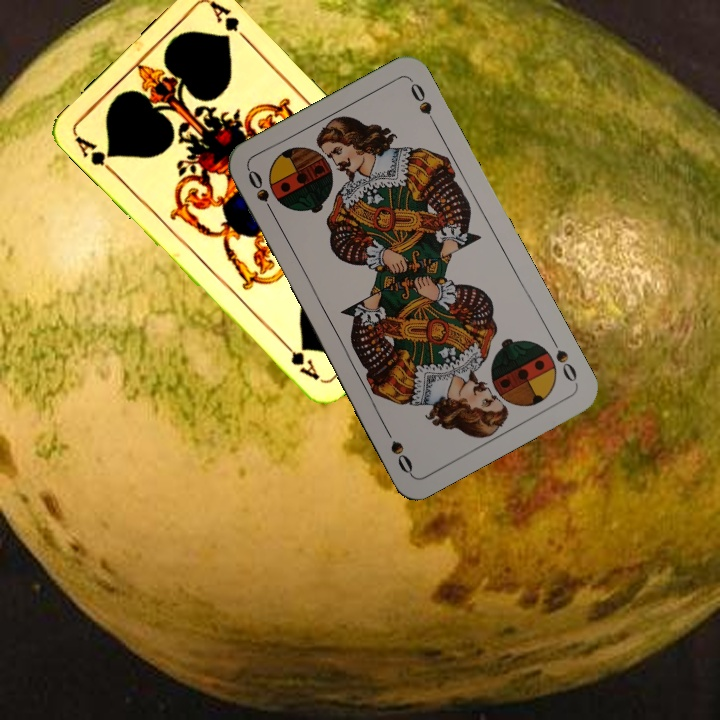GA: (71, 132, 119, 177)
SO: (244, 166, 279, 221), (546, 332, 580, 386)
